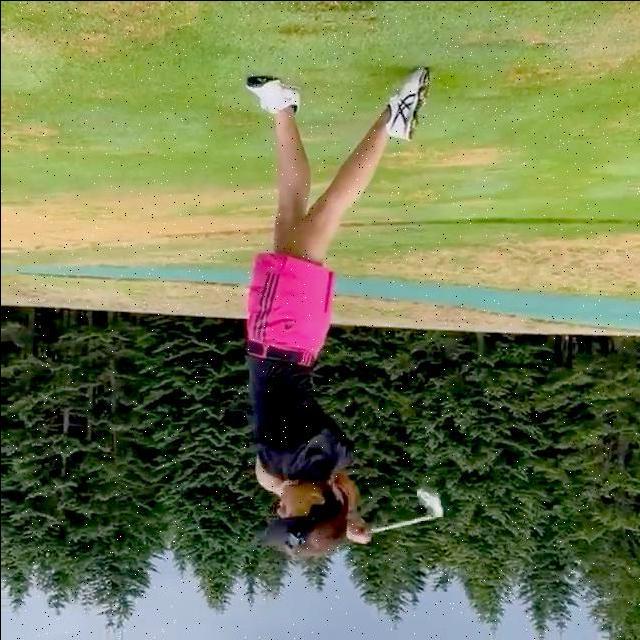golf club-handle: (368, 486, 443, 533)
golf club-head: (416, 488, 443, 518)
